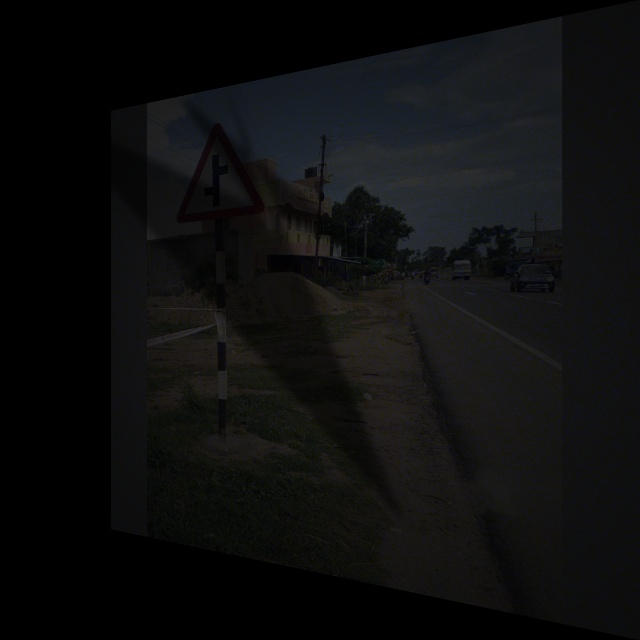Staggered_Intersection: (178, 105, 266, 229)
